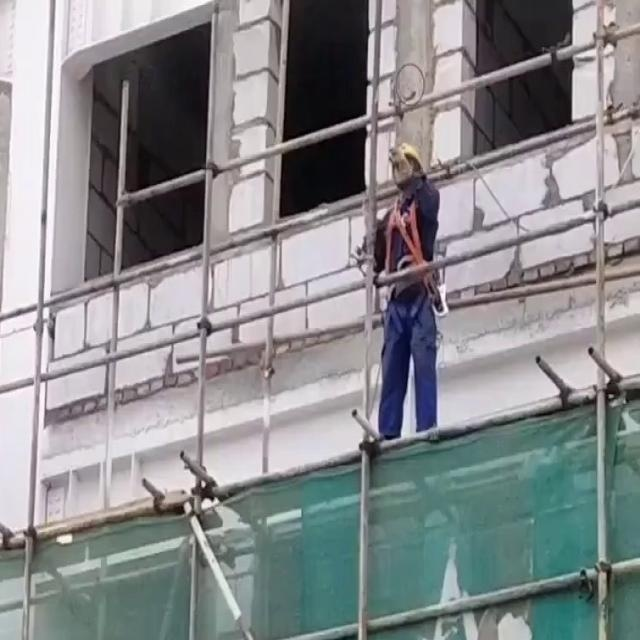Arnes_seguridad: (381, 190, 431, 277)
